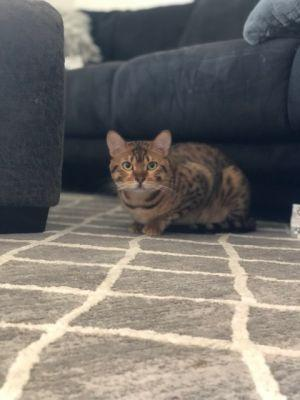bengal: (105, 125, 177, 199)
